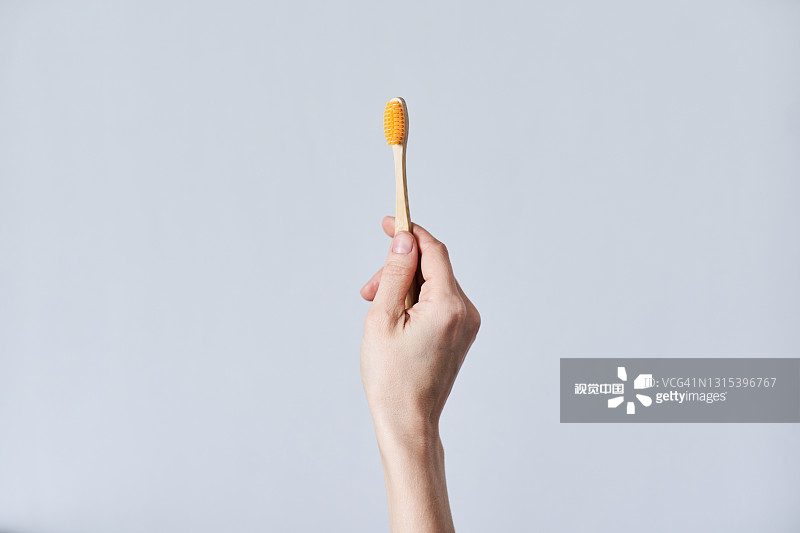no-phone: (336, 189, 495, 471)
